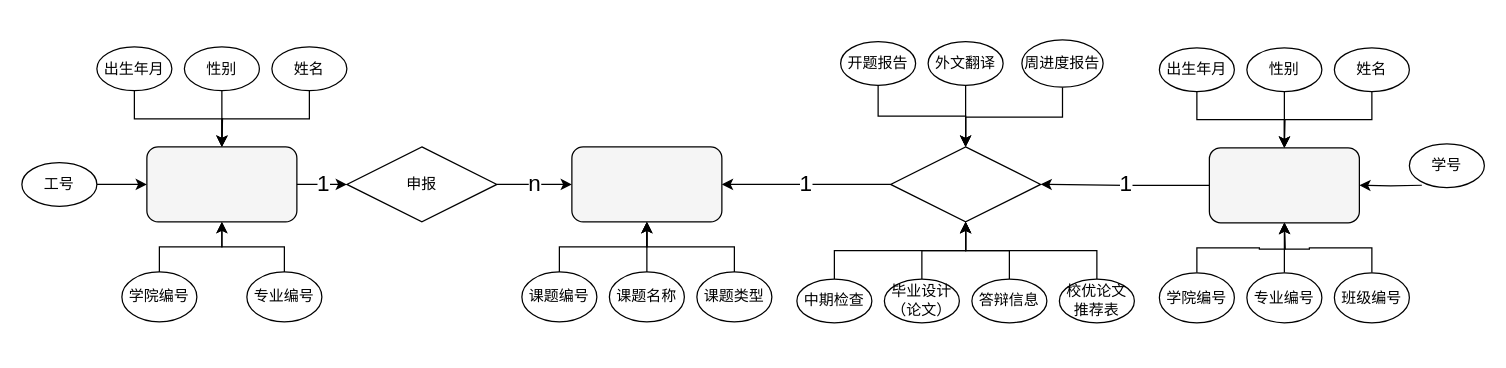
Some shapes in this 1506 by 368 pixel diagram are drawn without their labels. The shapes that lost their labels are listed below. From the top down, each one's centre as x and y in pixels, then its label:
(221,184): 教师
(646,184): 课题
(965,184): 选题
(1283,184): 学生
